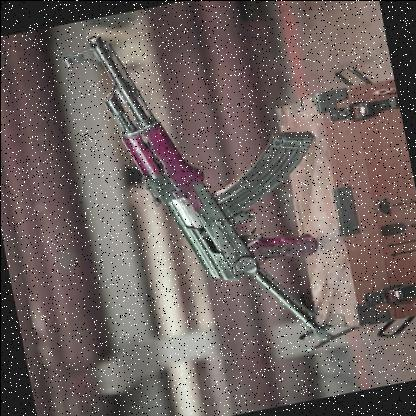rifle: (70, 1, 353, 385)
